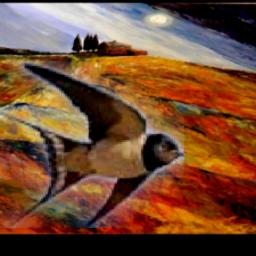Swallow: (0, 62, 184, 229)
